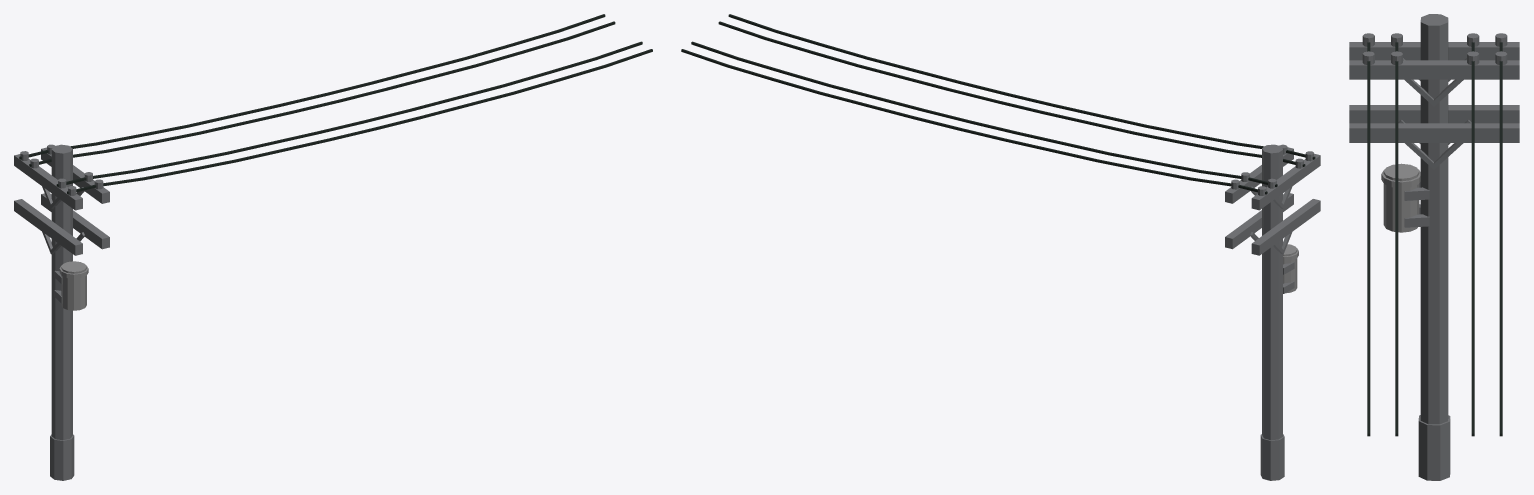
File: obj_electricitypole_2.fbx
3 renders of one model, left to right at view 1: azimuth 30°, elevation 25°; view 2: azimuth 150°, elevation 25°; view 3: azimuth 270°, elevation 25°, orthographic. The views are drawn at different scales.
Visible parts, largest first — view 1: obj_electricitypole_2; view 2: obj_electricitypole_2; view 3: obj_electricitypole_2.
Part boxes in pixels (x1,y1,x2,y2): obj_electricitypole_2: (14, 14, 652, 480); obj_electricitypole_2: (681, 14, 1320, 480); obj_electricitypole_2: (1349, 14, 1519, 480).
Size of the model in its own units: 9.52 by 5.08 by 1.73.
Materials: 1 (1 with a texture image).
